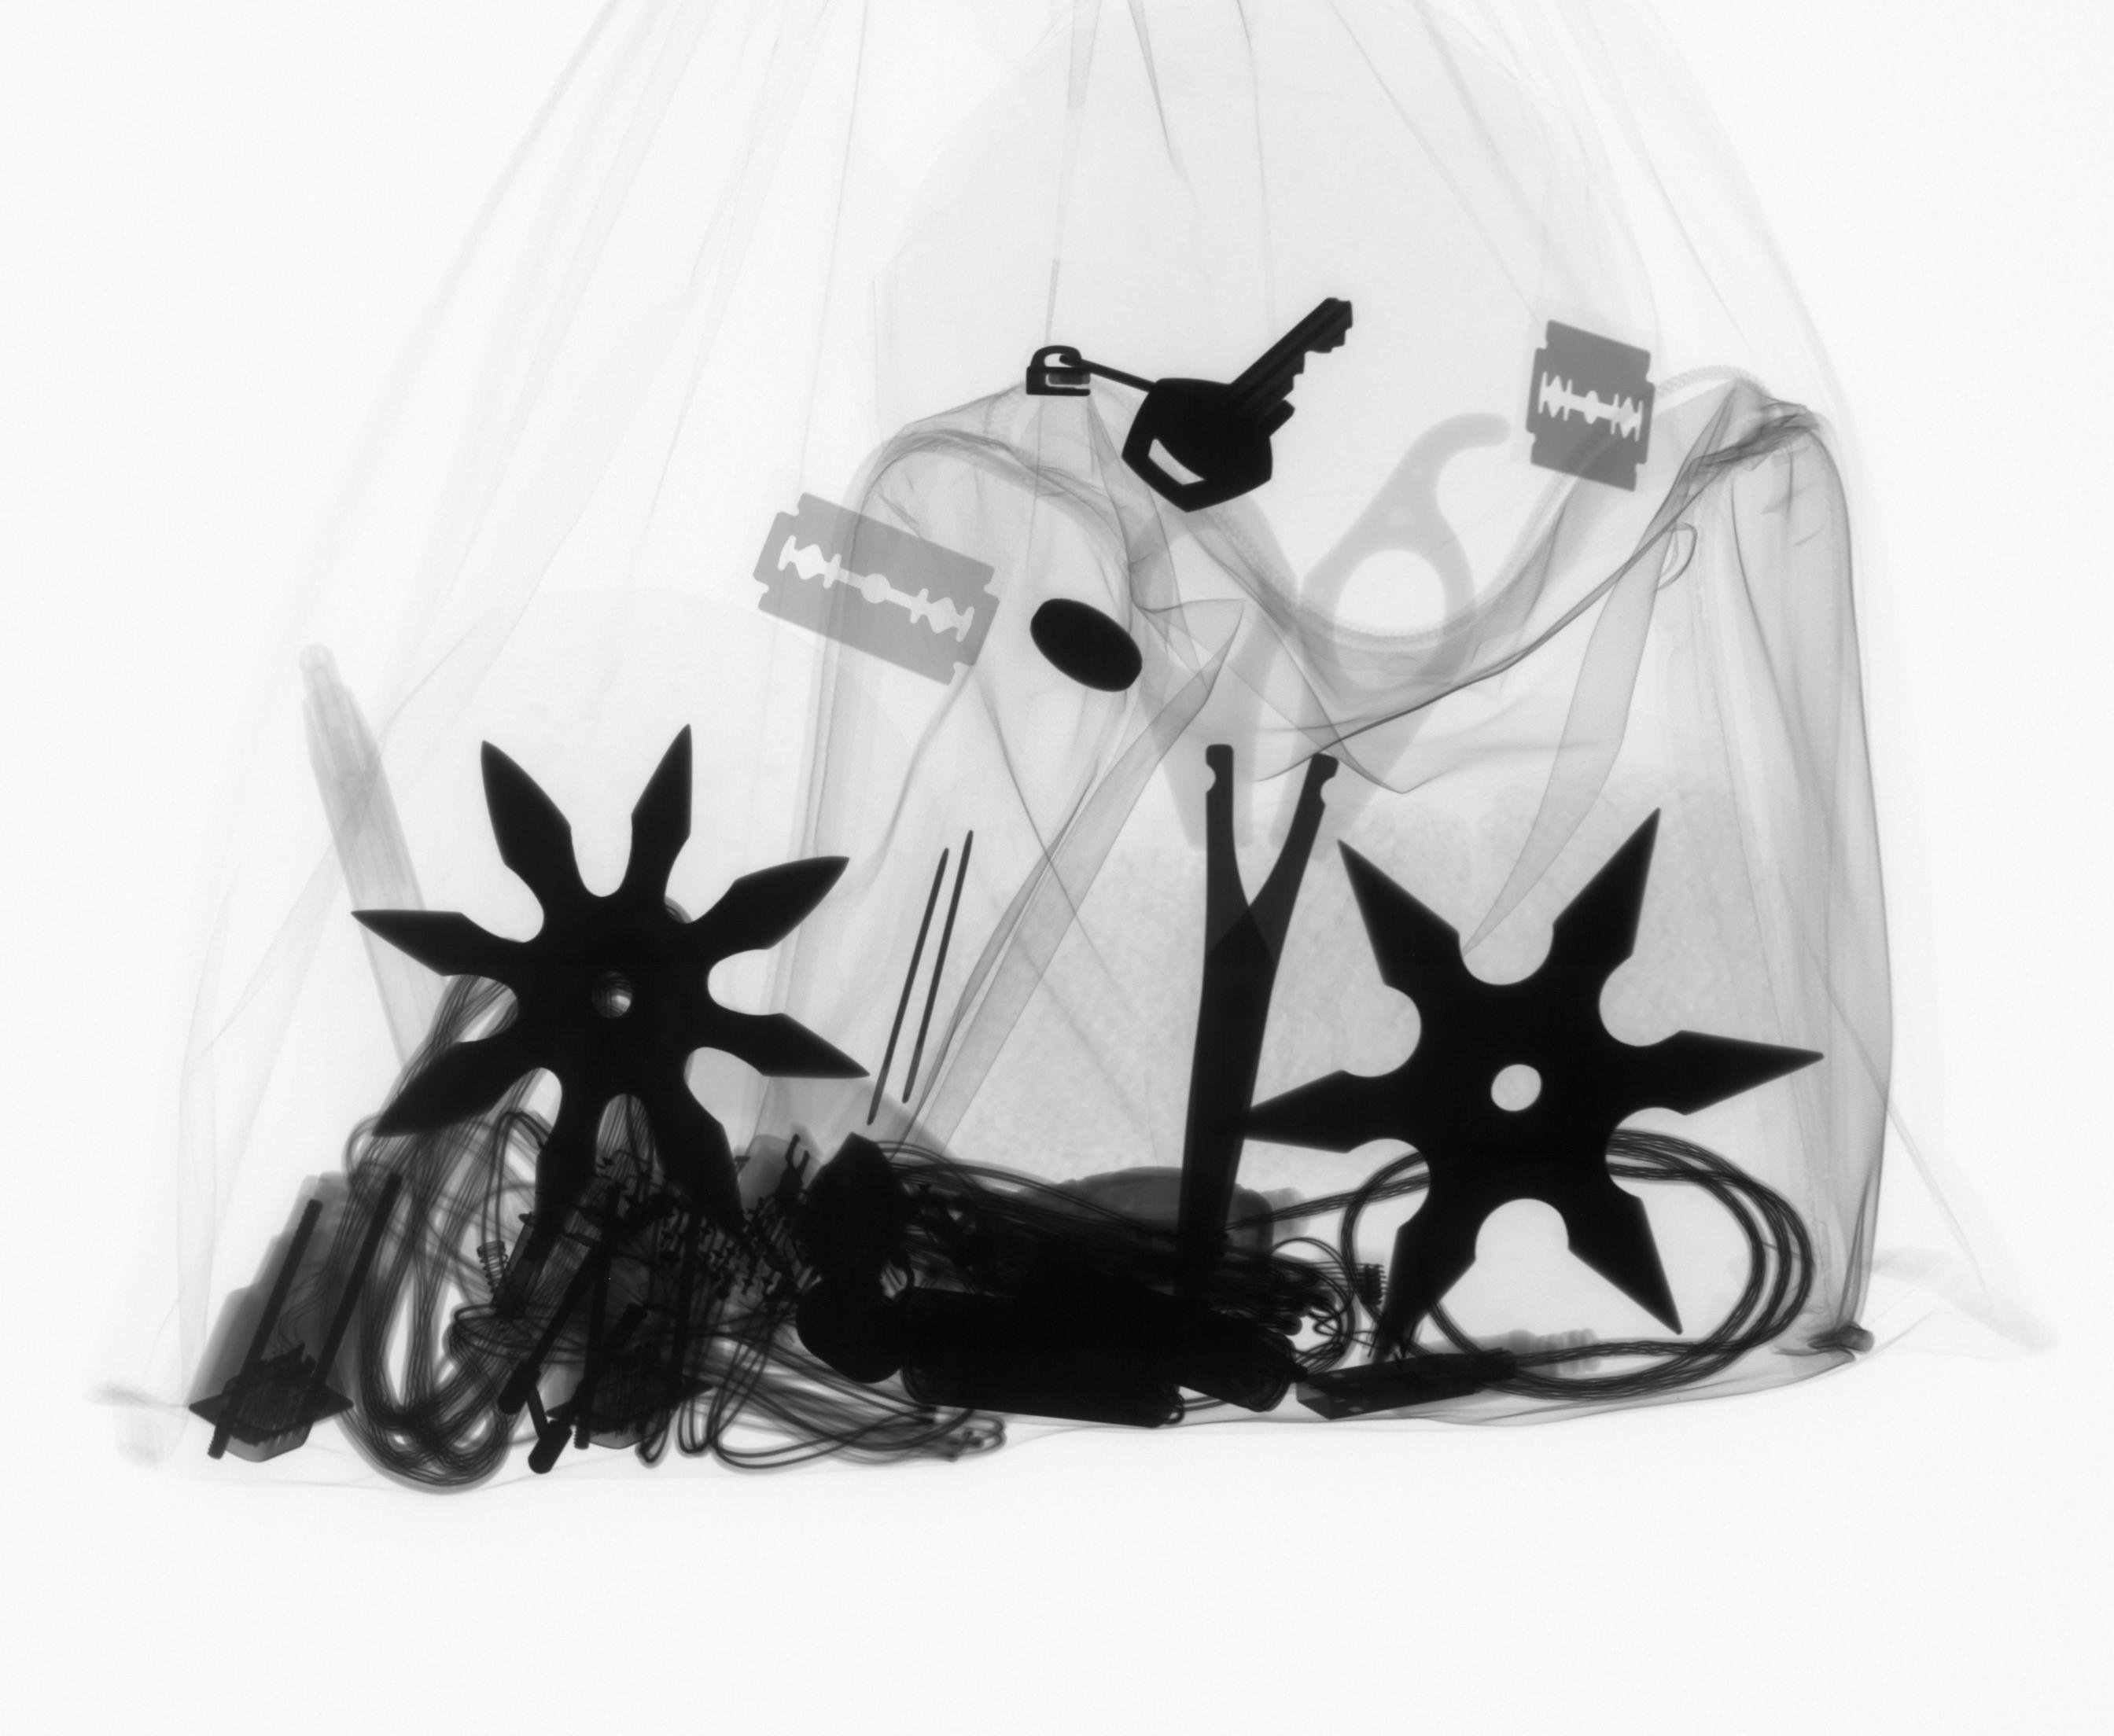RazorBlade: (739, 476, 1004, 707), (1510, 319, 1668, 513)
Shuriken: (1220, 800, 1858, 1364), (348, 714, 885, 1246)
